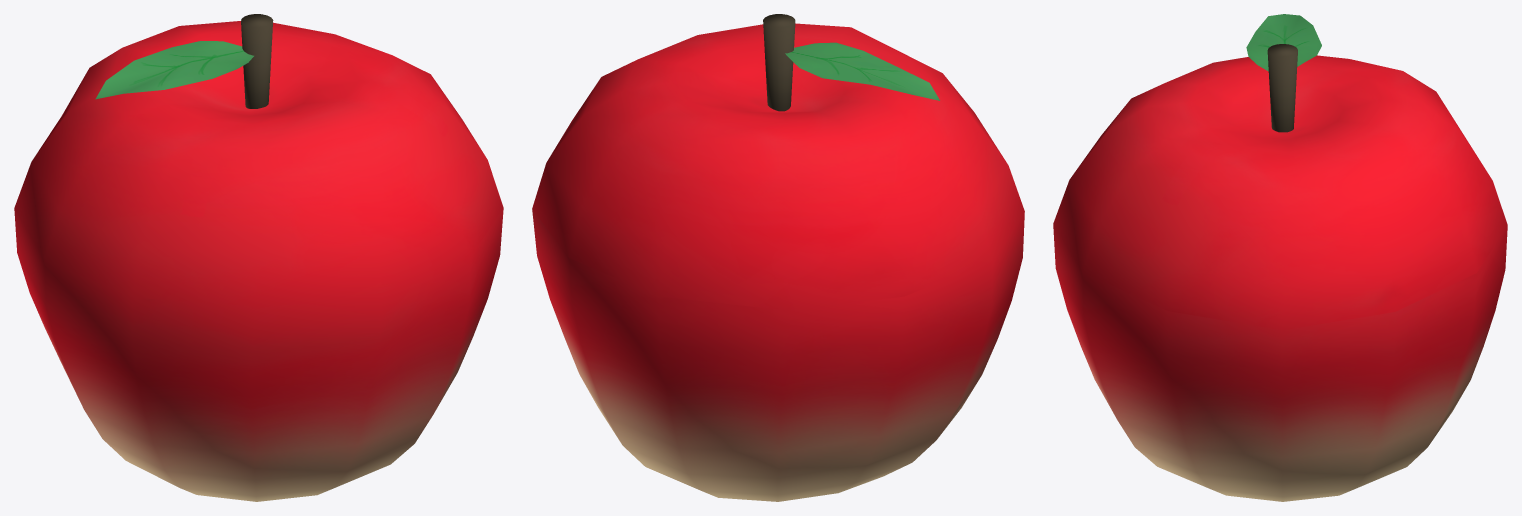
Rendered from apple.glb.
The picture shows the model from 3 angles, left to right: view 1: azimuth 30°, elevation 25°; view 2: azimuth 150°, elevation 25°; view 3: azimuth 270°, elevation 25°; orthographic projection. The views are drawn at different scales.
Parts seen in each view (by area): view 1: Circle; view 2: Circle; view 3: Circle.
Part boxes in pixels (x1,y1,x2,y2): Circle: (14, 14, 503, 501); Circle: (532, 14, 1024, 501); Circle: (1053, 14, 1507, 501).
Bounding box in the file's own units: 2.32 × 2.33 × 2.27.
Materials: 1 (1 with a texture image).
